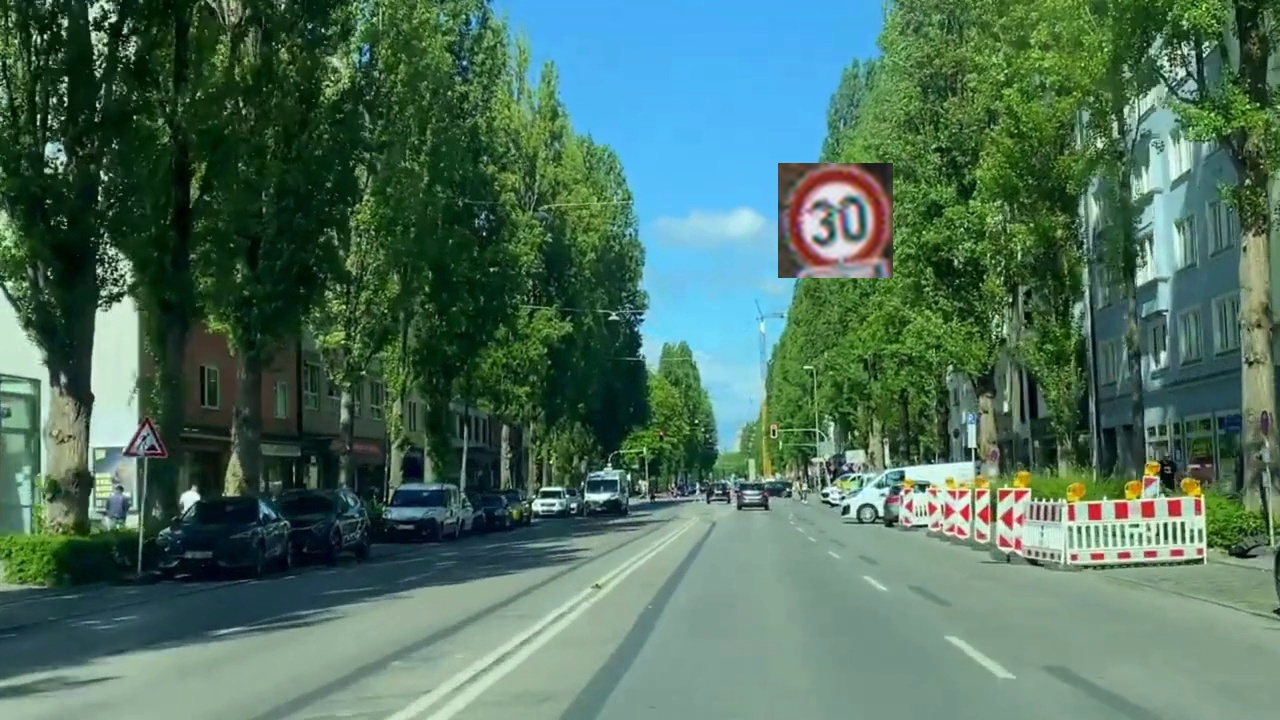Speed 30: (778, 163, 893, 278)
